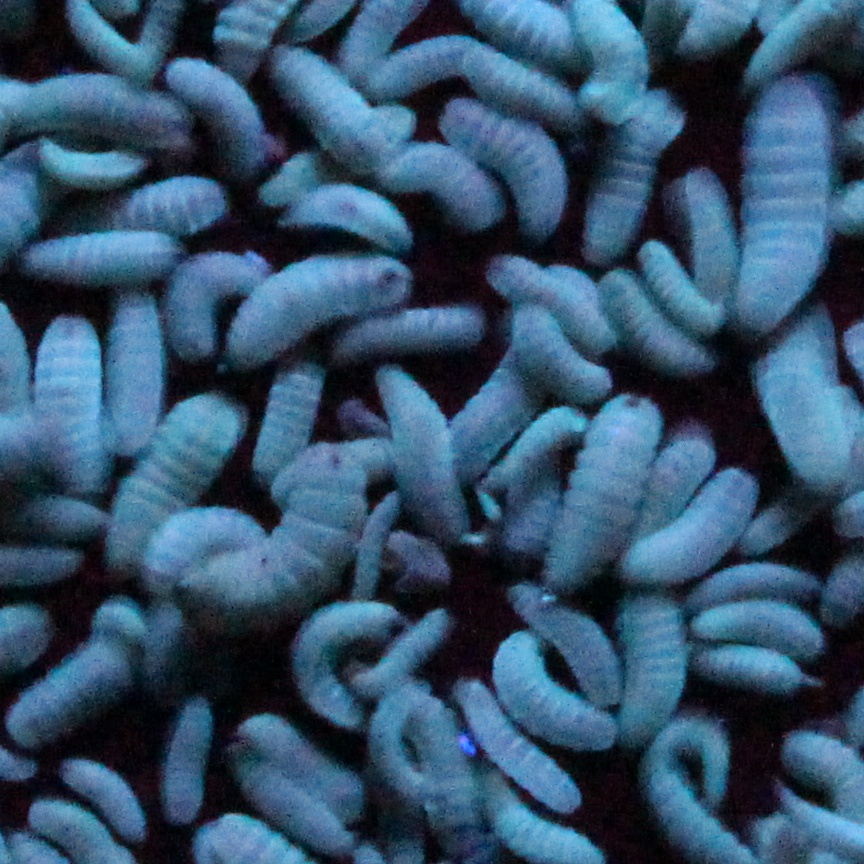larve: (176, 453, 363, 609), (542, 392, 651, 604), (123, 390, 245, 568), (742, 82, 828, 332), (225, 263, 418, 372), (440, 104, 578, 240), (618, 466, 757, 587), (487, 632, 623, 754), (375, 372, 470, 539), (270, 49, 404, 163), (13, 73, 190, 158), (37, 313, 111, 497), (232, 749, 359, 856), (288, 601, 390, 728), (9, 640, 135, 739), (244, 718, 361, 818), (480, 261, 611, 348), (168, 58, 257, 177), (604, 273, 707, 373), (617, 596, 688, 740), (509, 306, 611, 403), (599, 103, 667, 248), (285, 177, 409, 249), (692, 590, 825, 656), (453, 46, 572, 117), (356, 609, 452, 694), (26, 235, 187, 285), (388, 155, 505, 223), (332, 308, 490, 358), (690, 640, 814, 697), (63, 758, 145, 840), (644, 244, 723, 327), (163, 696, 214, 820)
